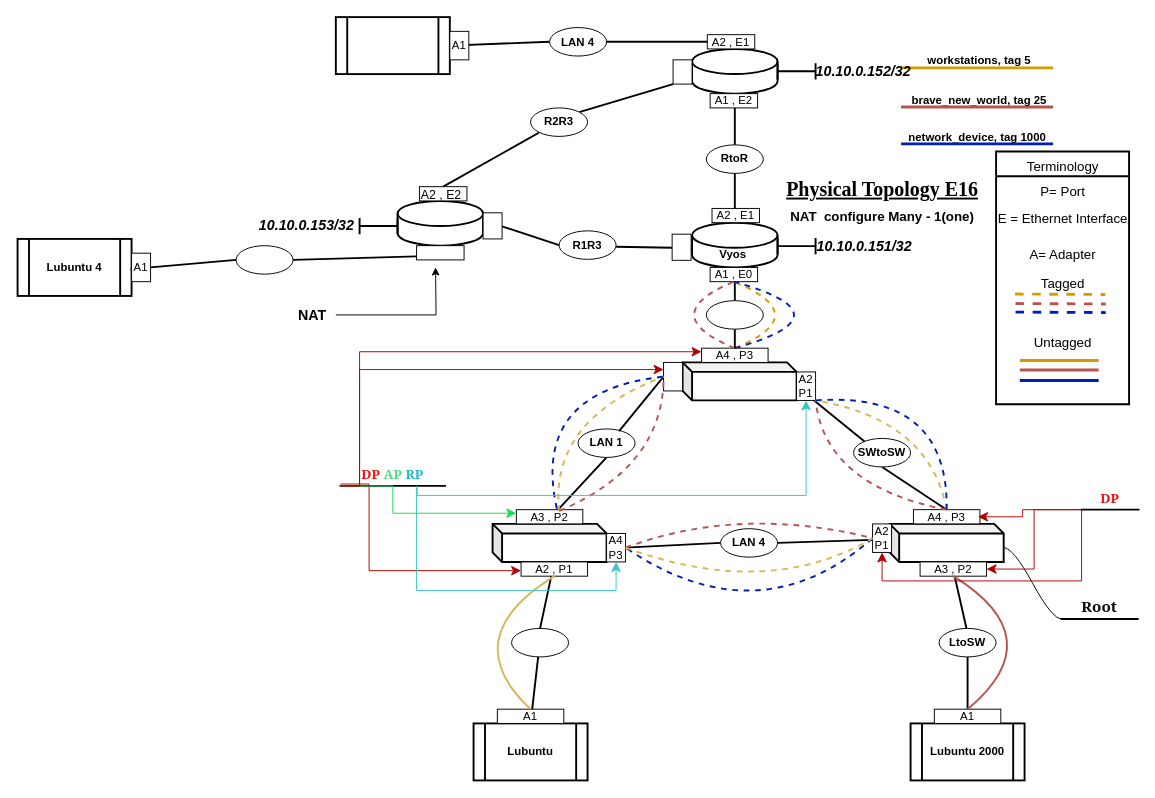
The diagram is 1155 pixels wide and 798 high, and some of its shapes have lost their labels. Each missing label, with the box of its shape:
A1 E3: (482, 212, 502, 239)
A3 , E0: (416, 245, 464, 260)
A3 E0: (672, 59, 692, 84)
A3 E2: (671, 233, 691, 260)
A3 P2: (663, 361, 683, 391)
LAN 3: (511, 627, 569, 657)
Lubuntu 3.1: (334, 16, 450, 75)
Network_Switch 2: (681, 361, 797, 401)
public: (235, 245, 293, 274)
Router 2: (691, 48, 778, 94)
Router 3: (396, 200, 484, 246)
RtoSW: (705, 300, 763, 329)
Switch 1: (491, 522, 607, 562)
Switch 3: (888, 522, 1004, 562)
